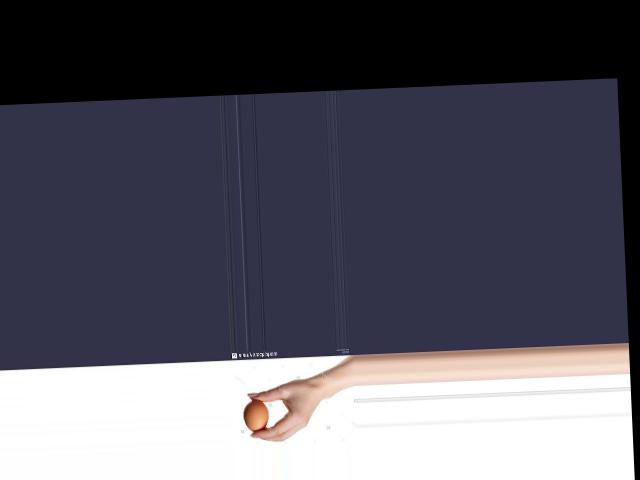egg: (243, 399, 270, 431)
